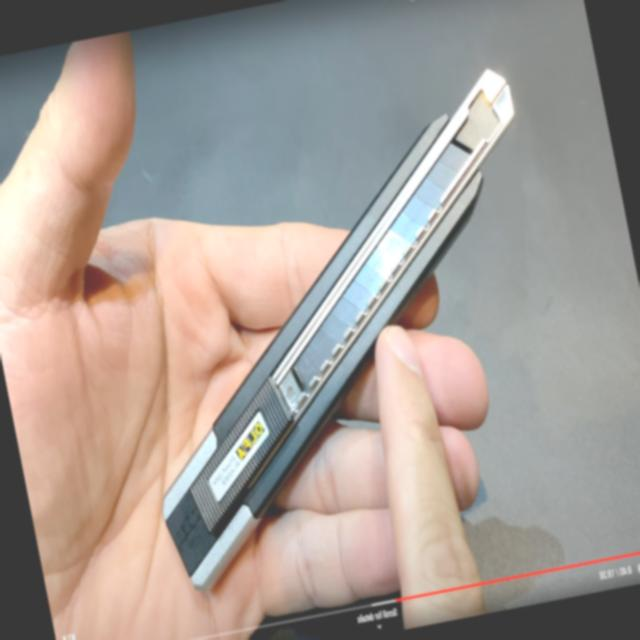cutter: (55, 36, 610, 628)
